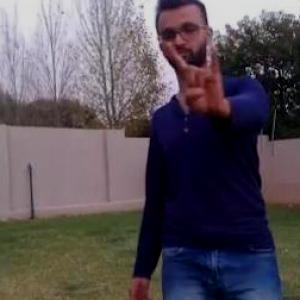takeoff-hand: (158, 36, 228, 124)
